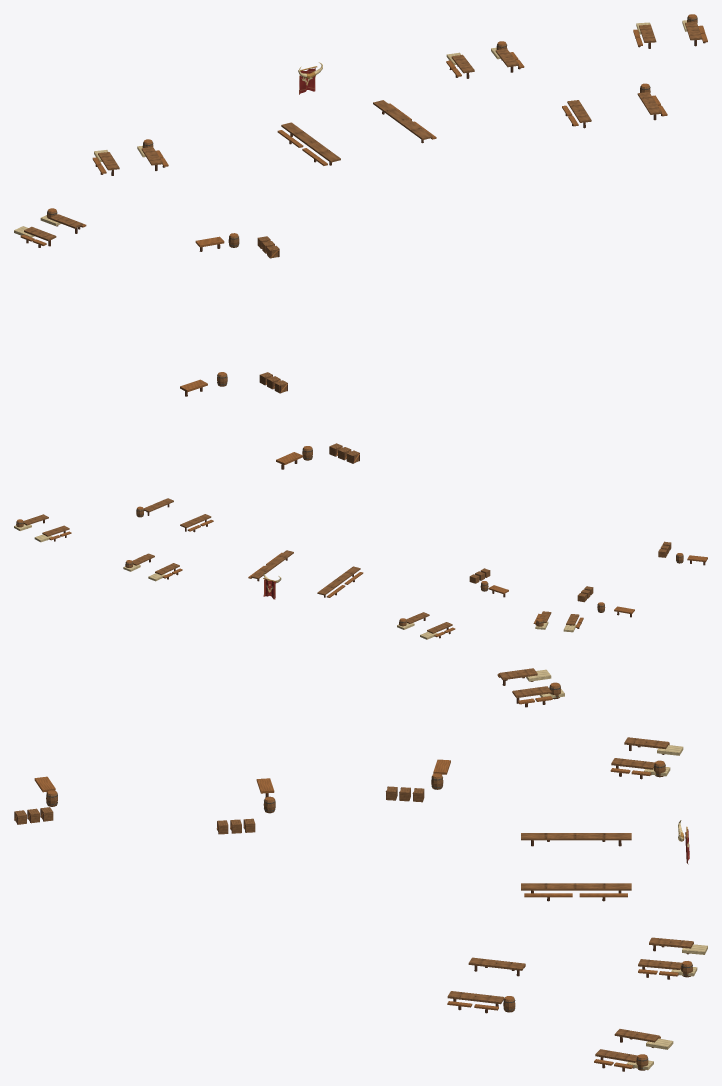
Rendered from phase_3_inside.glb.
3 views of the same model, one above another, from view 1: azimuth 30°, elevation 25°; view 2: azimuth 150°, elevation 25°; view 3: azimuth 270°, elevation 25° (orthographic). The views are drawn at different scales.
Parts seen in each view (by area): view 1: hall_interior_F3, tavern_interior_F3, house_b_interior_F3, house_c_interior_F3, house_a_interior_F3, house_d_interior_F3, workshop_interior_F3, forge_interior_F3, store_interior_F3; view 2: hall_interior_F3, house_d_interior_F3, house_a_interior_F3, house_c_interior_F3, tavern_interior_F3, house_b_interior_F3, store_interior_F3, forge_interior_F3, workshop_interior_F3; view 3: hall_interior_F3, tavern_interior_F3, house_a_interior_F3, house_d_interior_F3, house_c_interior_F3, house_b_interior_F3, forge_interior_F3, workshop_interior_F3, store_interior_F3.
Boxes of the visible parts, left/top/right/bottom form: hall_interior_F3: left=277, top=62, right=436, bottom=165; tavern_interior_F3: left=562, top=83, right=667, bottom=128; house_b_interior_F3: left=14, top=208, right=86, bottom=247; house_c_interior_F3: left=446, top=41, right=524, bottom=78; house_a_interior_F3: left=92, top=139, right=168, bottom=175; house_d_interior_F3: left=633, top=14, right=707, bottom=48; workshop_interior_F3: left=276, top=443, right=359, bottom=469; forge_interior_F3: left=180, top=372, right=287, bottom=396; store_interior_F3: left=195, top=233, right=279, bottom=258; hall_interior_F3: left=248, top=550, right=363, bottom=599; house_d_interior_F3: left=14, top=514, right=71, bottom=542; house_a_interior_F3: left=397, top=612, right=455, bottom=639; house_c_interior_F3: left=123, top=553, right=182, bottom=581; tavern_interior_F3: left=136, top=498, right=213, bottom=532; house_b_interior_F3: left=533, top=611, right=583, bottom=632; store_interior_F3: left=469, top=568, right=508, bottom=597; forge_interior_F3: left=577, top=586, right=634, bottom=617; workshop_interior_F3: left=658, top=541, right=707, bottom=565; hall_interior_F3: left=521, top=820, right=689, bottom=901; tavern_interior_F3: left=447, top=957, right=525, bottom=1013; house_a_interior_F3: left=610, top=737, right=683, bottom=779; house_d_interior_F3: left=594, top=1029, right=673, bottom=1071; house_c_interior_F3: left=638, top=937, right=707, bottom=979; house_b_interior_F3: left=497, top=668, right=564, bottom=707; forge_interior_F3: left=216, top=778, right=275, bottom=834; workshop_interior_F3: left=14, top=776, right=57, bottom=824; store_interior_F3: left=385, top=759, right=450, bottom=802.
Size of the model in its own units: 73.56 by 11.59 by 54.18.
Materials: 1 (1 with a texture image).
